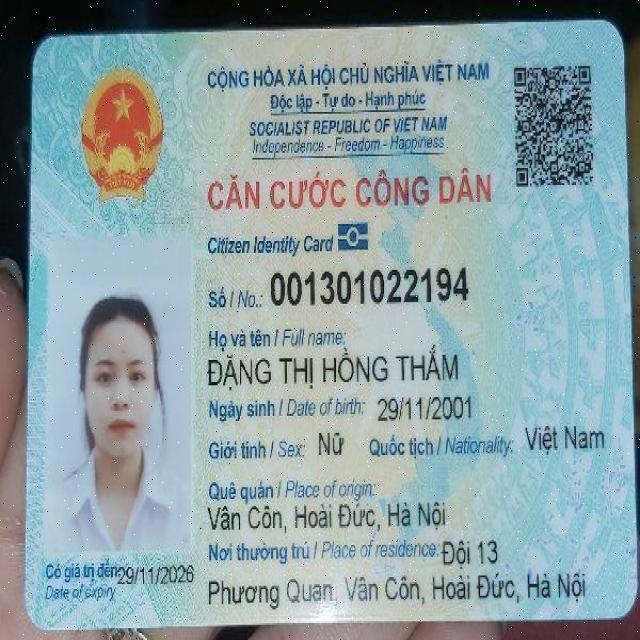current_place: (204, 567, 589, 615), (437, 535, 501, 569)
dob: (375, 386, 479, 429)
expire_date: (117, 563, 200, 583)
gender: (307, 418, 351, 455)
id: (267, 266, 470, 303)
name: (202, 345, 465, 390)
nationality: (524, 413, 607, 456)
origin_place: (204, 500, 449, 534)
